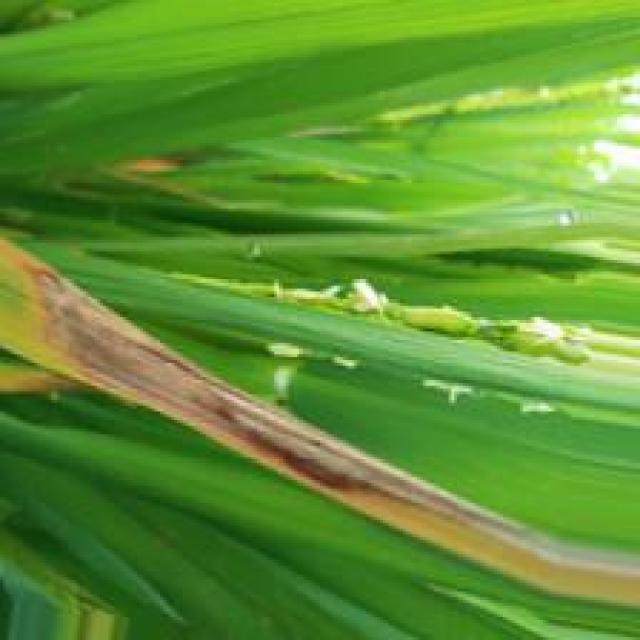Rice False Smut: (30, 260, 559, 563)
